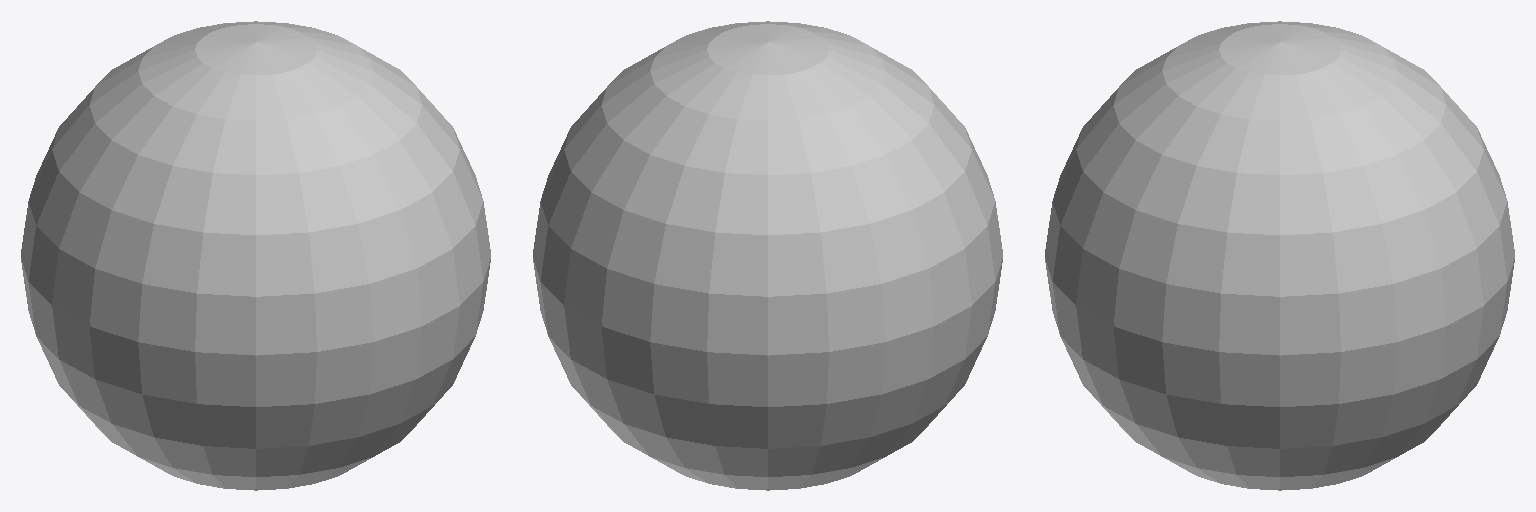
The model's file is sphere_full_r8.obj.
3 views of the same model, side by side, from view 1: azimuth 30°, elevation 25°; view 2: azimuth 150°, elevation 25°; view 3: azimuth 270°, elevation 25° (orthographic).
Visible parts, largest first — view 1: sphere_full_r8_face0-texture:0_sphere_full_r8_face0-texture:0; view 2: sphere_full_r8_face0-texture:0_sphere_full_r8_face0-texture:0; view 3: sphere_full_r8_face0-texture:0_sphere_full_r8_face0-texture:0.
Part boxes in pixels (bbox=[...]): sphere_full_r8_face0-texture:0_sphere_full_r8_face0-texture:0: bbox=[21, 21, 490, 490]; sphere_full_r8_face0-texture:0_sphere_full_r8_face0-texture:0: bbox=[533, 21, 1002, 490]; sphere_full_r8_face0-texture:0_sphere_full_r8_face0-texture:0: bbox=[1045, 21, 1514, 490].
Bounding box in the file's own units: 1 × 1 × 1.